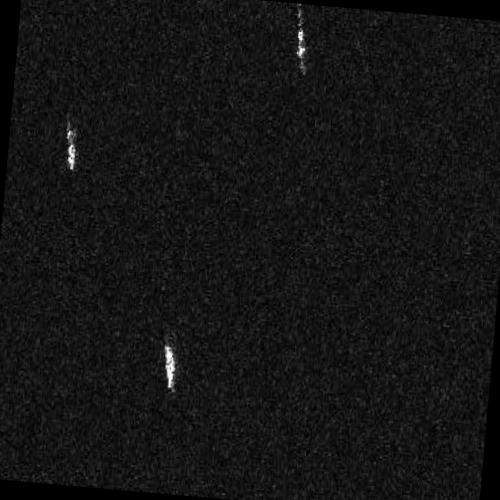ship: (160, 343, 177, 393), (65, 125, 77, 172), (296, 18, 306, 66)
